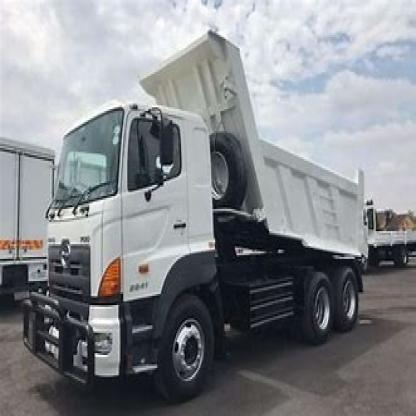dump_truck: (16, 24, 372, 401)
